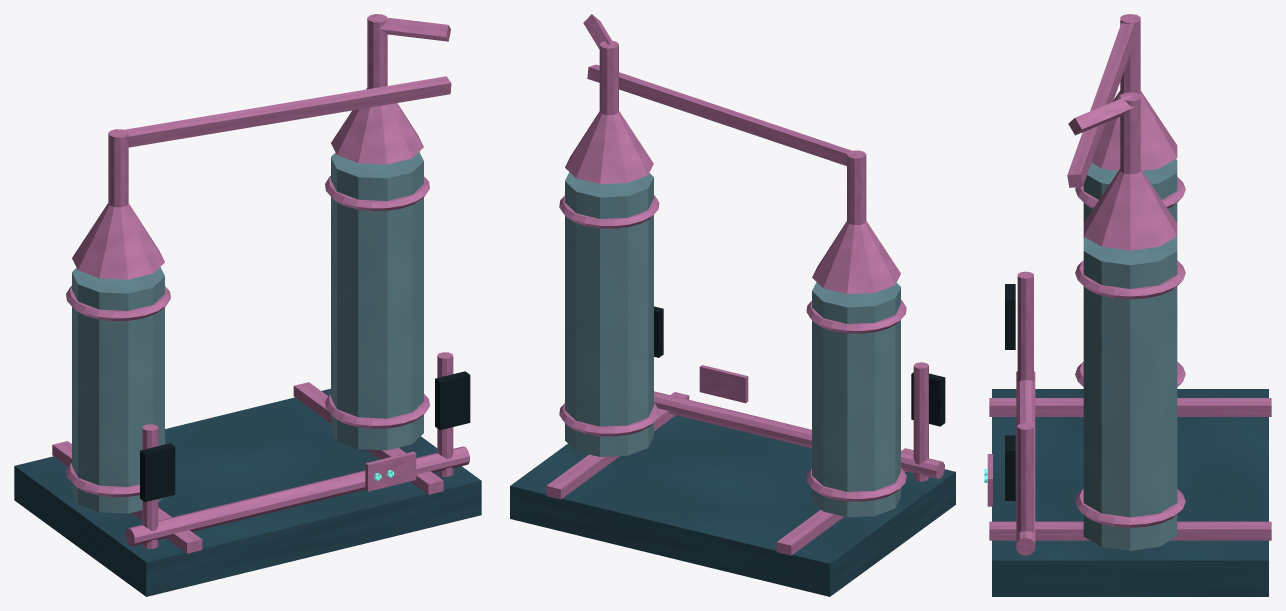
File: atlas100-s064-a01.glb
The picture shows the model from 3 angles, left to right: view 1: azimuth 30°, elevation 25°; view 2: azimuth 150°, elevation 25°; view 3: azimuth 270°, elevation 25°; orthographic projection. The views are drawn at different scales.
Parts seen in each view (by area): view 1: atlas100-s064-a01:part-000, atlas100-s064-a01:part-010, atlas100-s064-a01:part-003, atlas100-s064-a01:part-009, atlas100-s064-a01:part-021, atlas100-s064-a01:part-007, atlas100-s064-a01:part-014, atlas100-s064-a01:part-018, atlas100-s064-a01:part-020, atlas100-s064-a01:part-008, atlas100-s064-a01:part-002, atlas100-s064-a01:part-022 (+9 smaller); view 2: atlas100-s064-a01:part-000, atlas100-s064-a01:part-010, atlas100-s064-a01:part-003, atlas100-s064-a01:part-009, atlas100-s064-a01:part-007, atlas100-s064-a01:part-014, atlas100-s064-a01:part-021, atlas100-s064-a01:part-017, atlas100-s064-a01:part-002, atlas100-s064-a01:part-008, atlas100-s064-a01:part-015, atlas100-s064-a01:part-022 (+6 smaller); view 3: atlas100-s064-a01:part-000, atlas100-s064-a01:part-010, atlas100-s064-a01:part-014, atlas100-s064-a01:part-002, atlas100-s064-a01:part-001, atlas100-s064-a01:part-007, atlas100-s064-a01:part-009, atlas100-s064-a01:part-003, atlas100-s064-a01:part-019, atlas100-s064-a01:part-017, atlas100-s064-a01:part-021, atlas100-s064-a01:part-015 (+7 smaller).
Part boxes in pixels (bbox=[...]): atlas100-s064-a01:part-000: bbox=[14, 388, 481, 596]; atlas100-s064-a01:part-010: bbox=[331, 152, 423, 450]; atlas100-s064-a01:part-003: bbox=[72, 267, 164, 513]; atlas100-s064-a01:part-009: bbox=[116, 76, 451, 147]; atlas100-s064-a01:part-021: bbox=[125, 446, 469, 546]; atlas100-s064-a01:part-007: bbox=[72, 203, 164, 279]; atlas100-s064-a01:part-014: bbox=[331, 88, 423, 164]; atlas100-s064-a01:part-018: bbox=[140, 443, 175, 501]; atlas100-s064-a01:part-020: bbox=[435, 371, 470, 429]; atlas100-s064-a01:part-008: bbox=[108, 129, 128, 207]; atlas100-s064-a01:part-002: bbox=[293, 382, 443, 494]; atlas100-s064-a01:part-022: bbox=[365, 451, 416, 491]; atlas100-s064-a01:part-000: bbox=[510, 415, 955, 596]; atlas100-s064-a01:part-010: bbox=[565, 172, 653, 456]; atlas100-s064-a01:part-003: bbox=[812, 282, 900, 517]; atlas100-s064-a01:part-009: bbox=[587, 64, 853, 165]; atlas100-s064-a01:part-007: bbox=[812, 221, 900, 293]; atlas100-s064-a01:part-014: bbox=[565, 111, 653, 184]; atlas100-s064-a01:part-021: bbox=[654, 391, 944, 478]; atlas100-s064-a01:part-017: bbox=[913, 362, 928, 481]; atlas100-s064-a01:part-002: bbox=[546, 392, 689, 499]; atlas100-s064-a01:part-008: bbox=[847, 150, 866, 224]; atlas100-s064-a01:part-015: bbox=[599, 40, 618, 115]; atlas100-s064-a01:part-022: bbox=[699, 365, 748, 403]; atlas100-s064-a01:part-000: bbox=[992, 389, 1268, 596]; atlas100-s064-a01:part-010: bbox=[1083, 237, 1177, 550]; atlas100-s064-a01:part-014: bbox=[1083, 169, 1177, 250]; atlas100-s064-a01:part-002: bbox=[989, 521, 1271, 540]; atlas100-s064-a01:part-001: bbox=[989, 398, 1271, 416]; atlas100-s064-a01:part-007: bbox=[1091, 90, 1177, 170]; atlas100-s064-a01:part-009: bbox=[1067, 18, 1136, 187]; atlas100-s064-a01:part-003: bbox=[1083, 159, 1177, 237]; atlas100-s064-a01:part-019: bbox=[1017, 422, 1033, 532]; atlas100-s064-a01:part-017: bbox=[1017, 271, 1033, 381]; atlas100-s064-a01:part-021: bbox=[1016, 371, 1035, 555]; atlas100-s064-a01:part-015: bbox=[1120, 92, 1140, 174].
Size of the model in its own units: 2.8 by 3.46 by 1.87.
5 materials, 5 textured.
